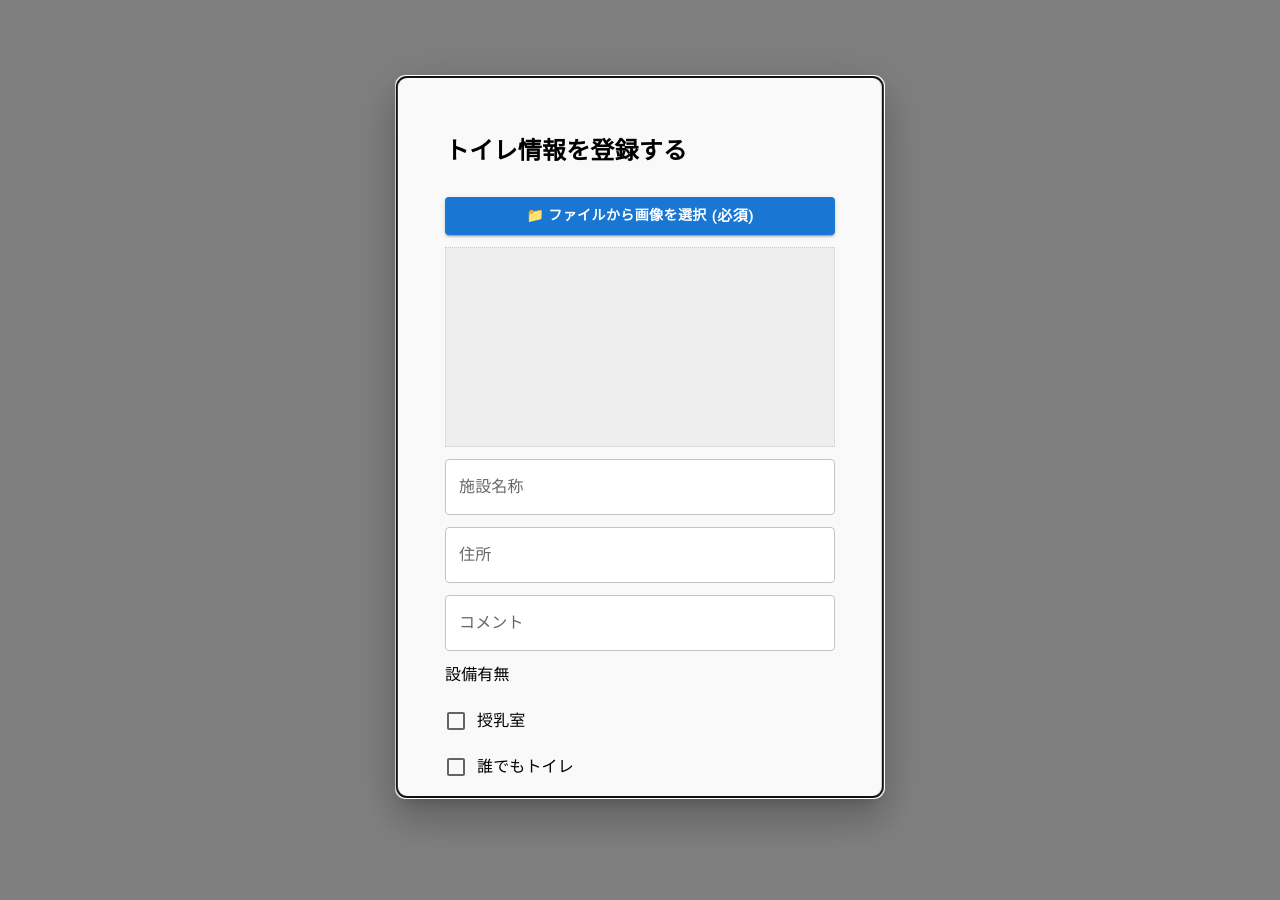
Test: AddRestroom › Should show error when trying to submit without an image upload
Expected: the heading "トイレ情報を登録する" is shown, x1=445 y1=136 x2=687 y2=164
Click the button "📁 ファイルから画像を選択 (必須)" at (640, 216), box x1=445 y1=196 x2=835 y2=235
(page scrolled)
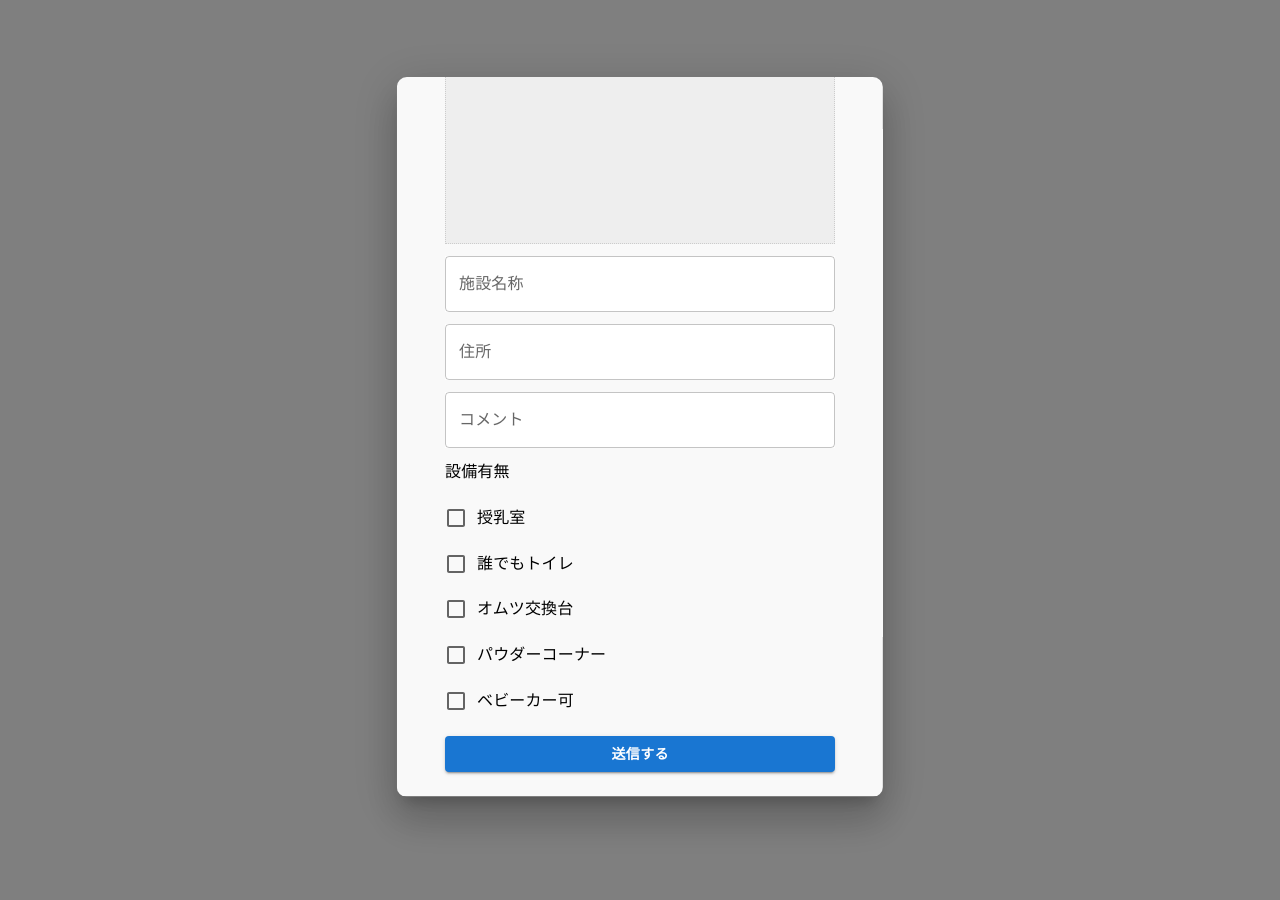
Click the button "送信する" at (640, 754), box x1=445 y1=736 x2=835 y2=772
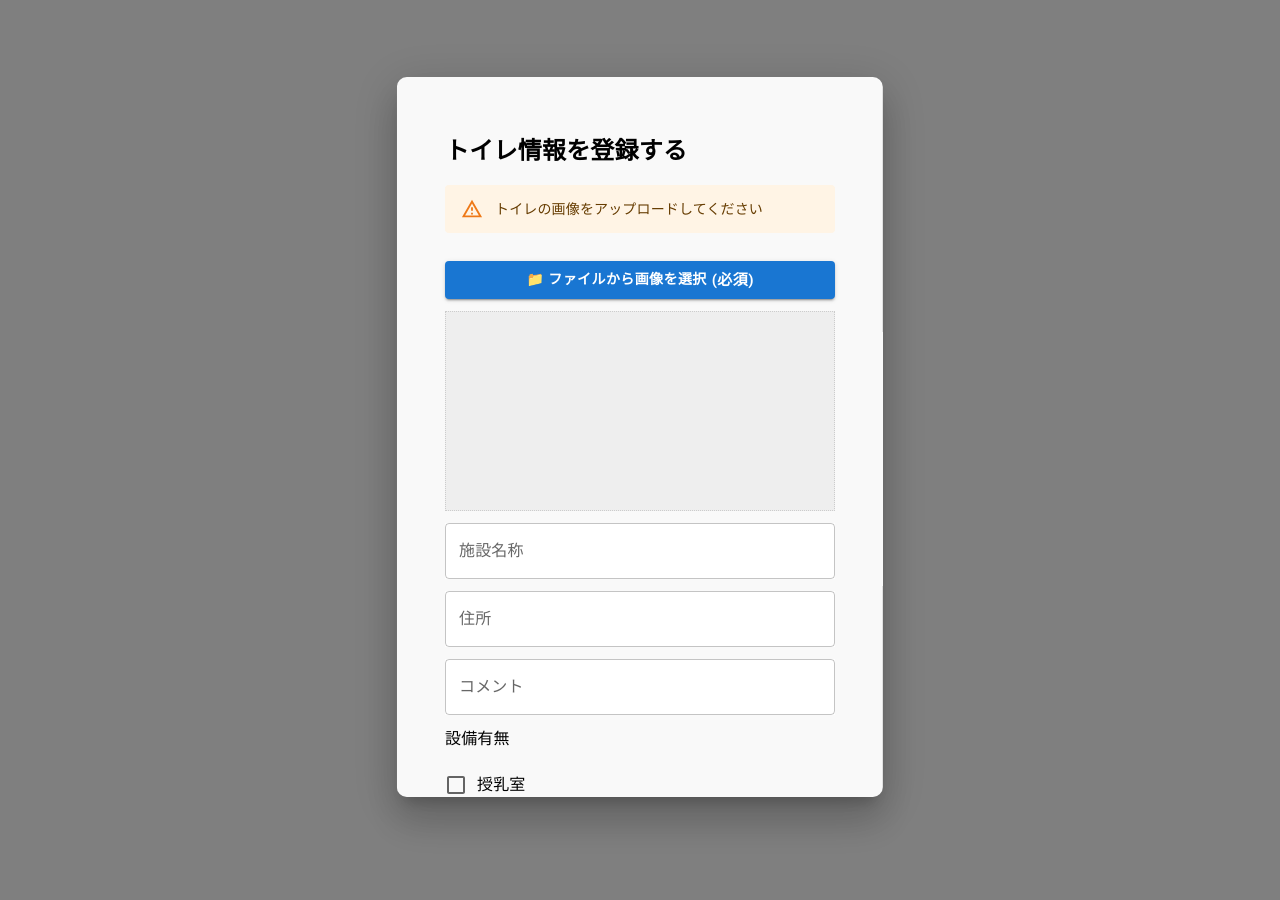
Now the text "トイレの画像をアップロードしてください" is shown, box x1=495 y1=200 x2=763 y2=216
